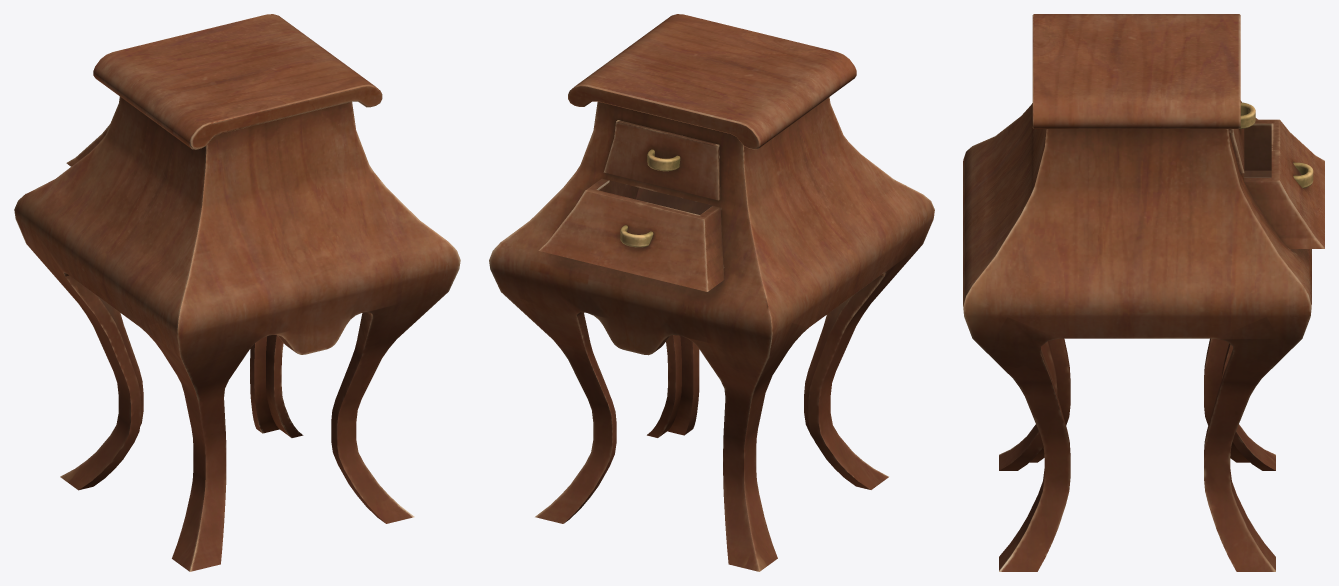
The model's file is SM_TableBasse_01.fbx.
3 views of the same model, side by side, from view 1: azimuth 30°, elevation 25°; view 2: azimuth 150°, elevation 25°; view 3: azimuth 270°, elevation 25° (orthographic). The views are drawn at different scales.
Parts seen in each view (by area): view 1: SM_TableBasse_01_LOD0; view 2: SM_TableBasse_01_LOD0; view 3: SM_TableBasse_01_LOD0.
Boxes of the visible parts, left/top/right/bottom form: SM_TableBasse_01_LOD0: left=14, top=14, right=460, bottom=571; SM_TableBasse_01_LOD0: left=489, top=14, right=934, bottom=571; SM_TableBasse_01_LOD0: left=963, top=14, right=1324, bottom=571.
Size of the model in its own units: 60.22 by 62.48 by 87.08.
Materials: 1 (1 with a texture image).
